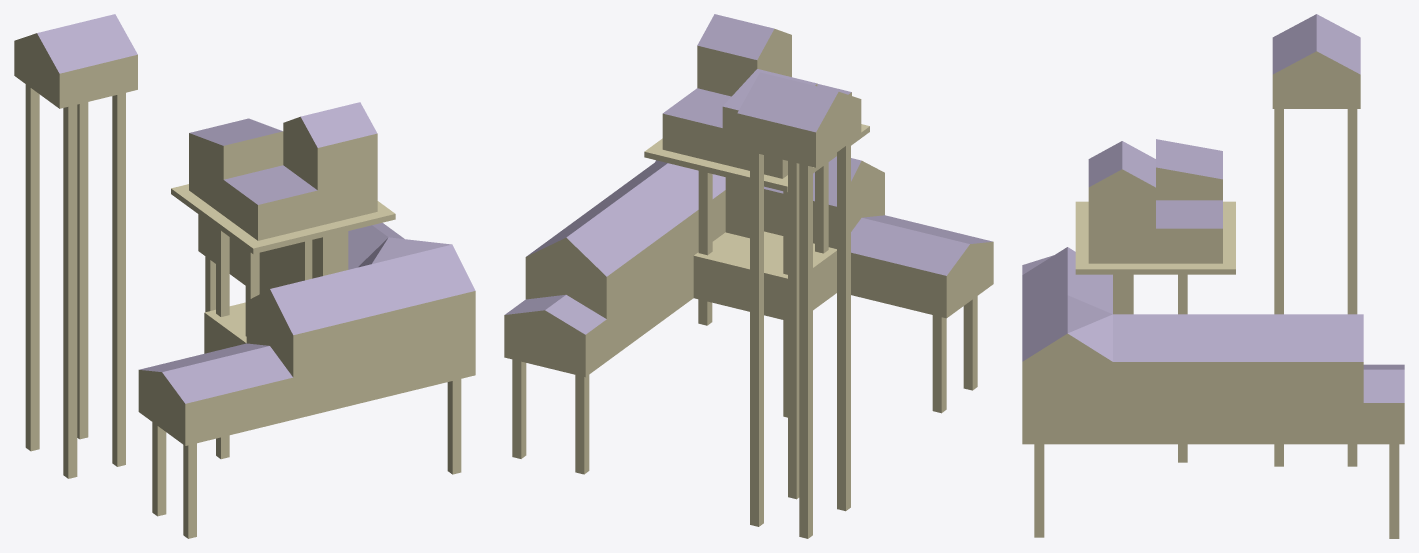
File: organic_farm.glb
3 renders of one model, left to right at view 1: azimuth 30°, elevation 25°; view 2: azimuth 150°, elevation 25°; view 3: azimuth 270°, elevation 25°, orthographic. The views are drawn at different scales.
Visible parts, largest first — view 1: Plane; view 2: Plane; view 3: Plane.
Part boxes in pixels (<box>): Plane: <box>14,14,475,538</box>; Plane: <box>504,14,993,538</box>; Plane: <box>1022,14,1404,538</box>.
Size of the model in its own units: 1.22 by 1.74 by 1.43.
